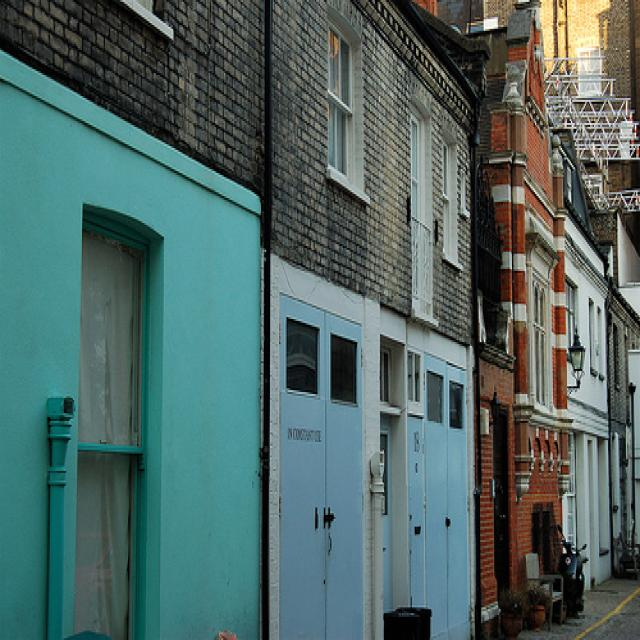motorbike: (553, 522, 591, 622)
